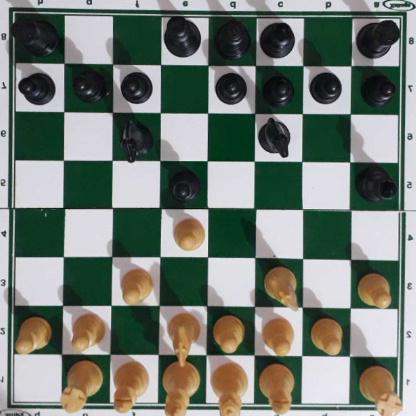black-bishop: (354, 165, 400, 201), (259, 19, 298, 56)
black-king: (162, 14, 202, 59)
black-knight: (120, 116, 153, 160), (260, 116, 292, 155)
black-pawn: (20, 69, 56, 105), (168, 166, 201, 201), (217, 67, 248, 104), (362, 71, 396, 104), (121, 67, 153, 102), (73, 68, 105, 102), (264, 72, 295, 106), (312, 70, 343, 104)
black-queen: (214, 16, 252, 56)
black-rook: (14, 10, 58, 55), (357, 16, 404, 58)
white-bishop: (257, 360, 298, 416), (112, 361, 151, 416)
white-king: (160, 358, 201, 416)
white-knight: (166, 311, 202, 367), (265, 263, 301, 308)
white-pawn: (69, 310, 107, 350), (16, 314, 53, 351), (357, 271, 394, 307), (121, 266, 155, 304), (262, 316, 296, 354), (312, 315, 346, 352), (214, 313, 247, 351), (174, 216, 207, 250)
white-queen: (211, 361, 250, 416)
white-rook: (359, 363, 403, 415), (60, 363, 104, 414)
